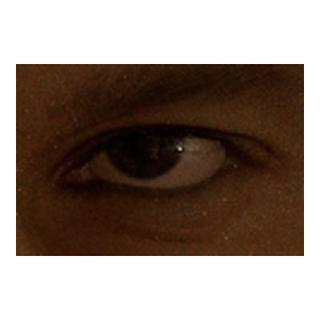pupil: (128, 122, 160, 155)
